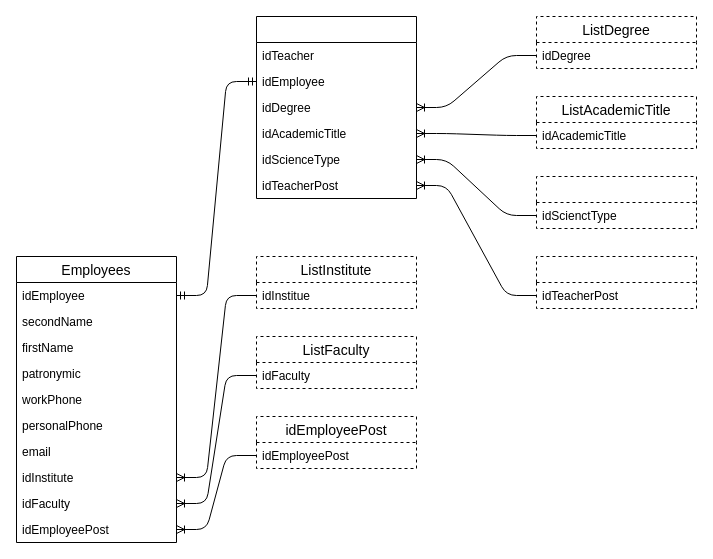
The diagram is 713 pixels wide and 559 high, and some of its shapes have lost their labels. The shapes that lost their labels are listed below. From the top down, each one's box as (x1, y1, x2, y2) in pixels, then its label:
(256, 16, 416, 198): Teachers
(536, 176, 696, 228): ListScienceType
(536, 256, 696, 308): ListTeacherPost
